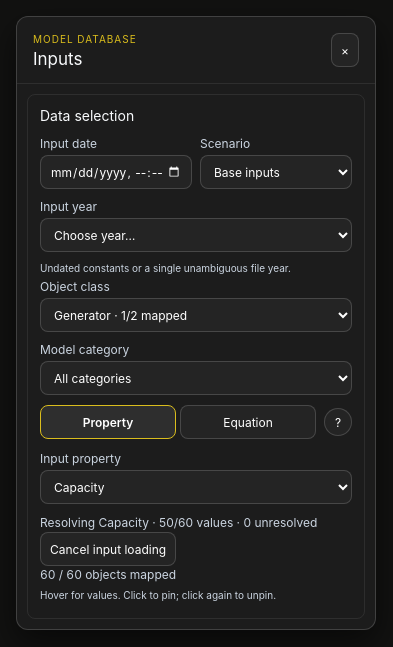
Scenario: real batch progress and cancellation do not publish a partial snapshot
The width and height of the screenshot is (393, 647).
Expected: the text "60 / 60 objects mapped" is shown, [40,567,176,582]
Expected: the text "Resolving Capacity · 50/60 values · 0 unresolved" is shown, [40,514,352,532]
Click the button "Cancel input loading".
click(108, 549)  # box [40,532,176,566]
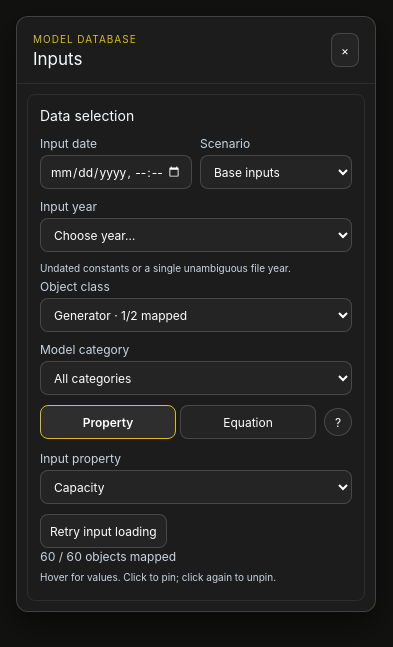
Expected: the button "Retry input loading" is shown, [40,514,167,548]
